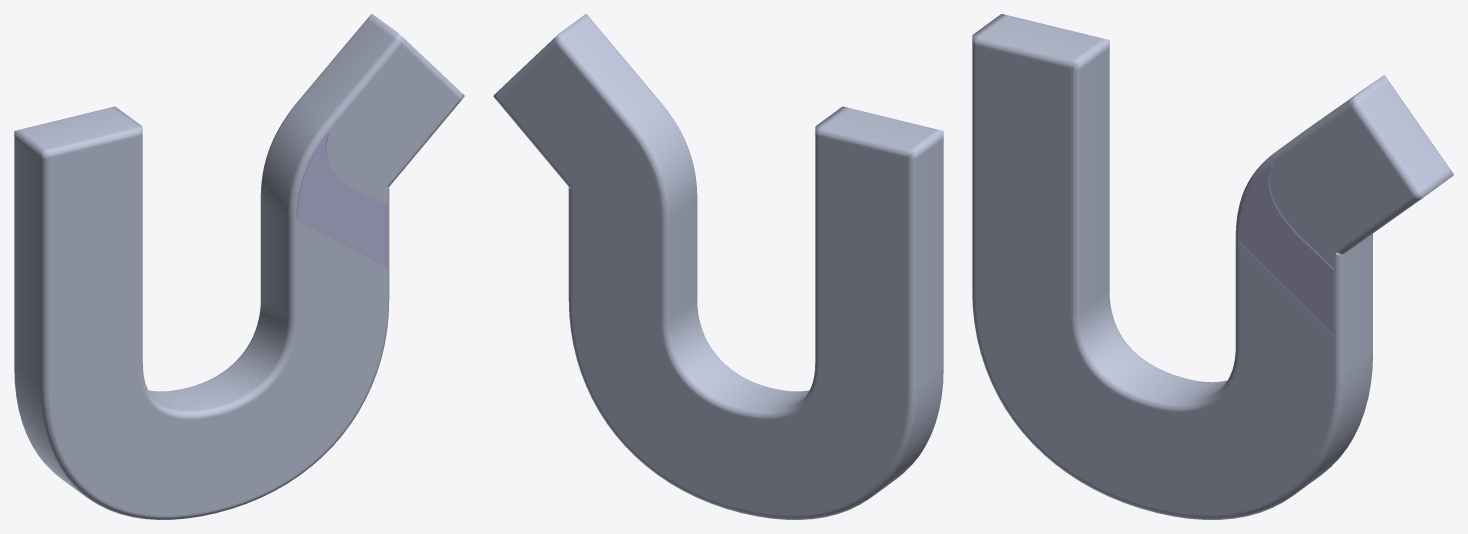
File: untold-glass.glb
3 renders of one model, left to right at view 1: azimuth 30°, elevation 25°; view 2: azimuth 150°, elevation 25°; view 3: azimuth 330°, elevation 25°, orthographic. The views are drawn at different scales.
Parts seen in each view (by area): view 1: Untold_OpticalGlass, Untold_Fold; view 2: Untold_OpticalGlass; view 3: Untold_OpticalGlass, Untold_Fold.
Part boxes in pixels (bbox=[...]): Untold_OpticalGlass: bbox=[14, 14, 464, 519]; Untold_Fold: bbox=[296, 131, 387, 265]; Untold_OpticalGlass: bbox=[493, 14, 943, 519]; Untold_OpticalGlass: bbox=[972, 14, 1453, 519]; Untold_Fold: bbox=[1237, 162, 1334, 336].
Bounding box in the file's own units: 3.23 × 3.17 × 0.448.
